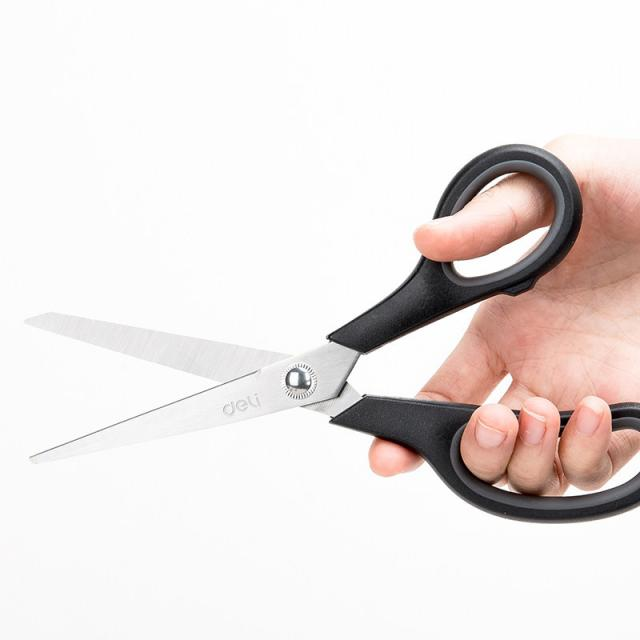scissor: (24, 140, 622, 514)
